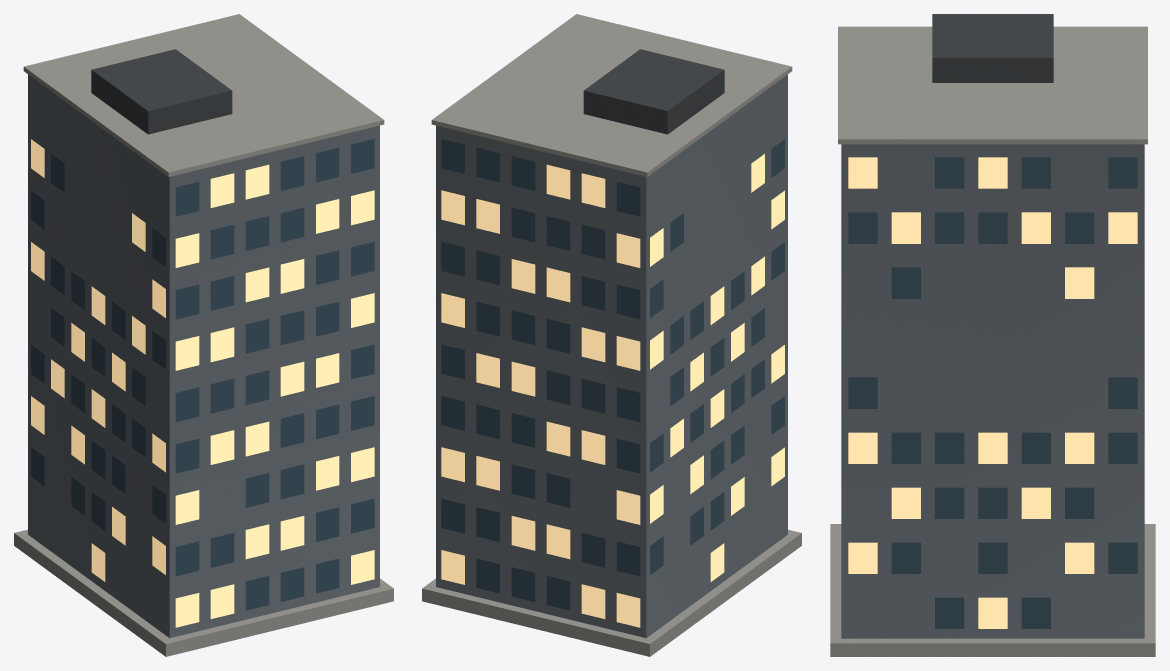
Rendered from marina-hotel_far.glb.
The picture shows the model from 3 angles, left to right: view 1: azimuth 30°, elevation 25°; view 2: azimuth 150°, elevation 25°; view 3: azimuth 270°, elevation 25°; orthographic projection. The views are drawn at different scales.
Parts seen in each view (by area): view 1: facade-mineral, concrete, glazing, window-emissive-mask, dark-steel; view 2: facade-mineral, concrete, glazing, window-emissive-mask, dark-steel; view 3: facade-mineral, concrete, glazing, window-emissive-mask, dark-steel.
Part boxes in pixels (box(x1,y1,x2,y2)): facade-mineral: box(28, 74, 379, 638); concrete: box(14, 14, 393, 656); glazing: box(31, 139, 374, 610); window-emissive-mask: box(31, 139, 374, 627); dark-steel: box(91, 49, 232, 134); facade-mineral: box(436, 74, 787, 638); concrete: box(422, 14, 801, 656); glazing: box(441, 139, 784, 610); window-emissive-mask: box(441, 154, 784, 627); dark-steel: box(583, 49, 724, 134); facade-mineral: box(841, 144, 1144, 638); concrete: box(830, 26, 1155, 656); glazing: box(848, 157, 1137, 628); window-emissive-mask: box(848, 157, 1137, 628); dark-steel: box(932, 14, 1053, 82).
Bounding box in the file's own units: 13 × 27.45 × 15.
Materials: 5 (3 with a texture image).
